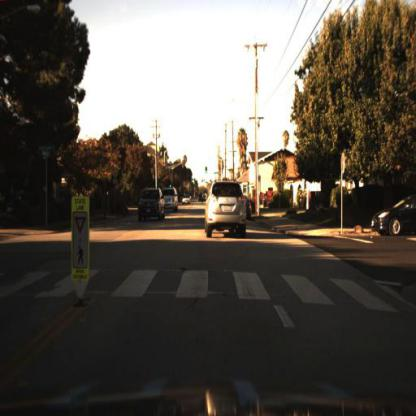car: (202, 179, 246, 241), (372, 194, 416, 240), (136, 181, 169, 226), (165, 183, 181, 218), (243, 187, 255, 230)
